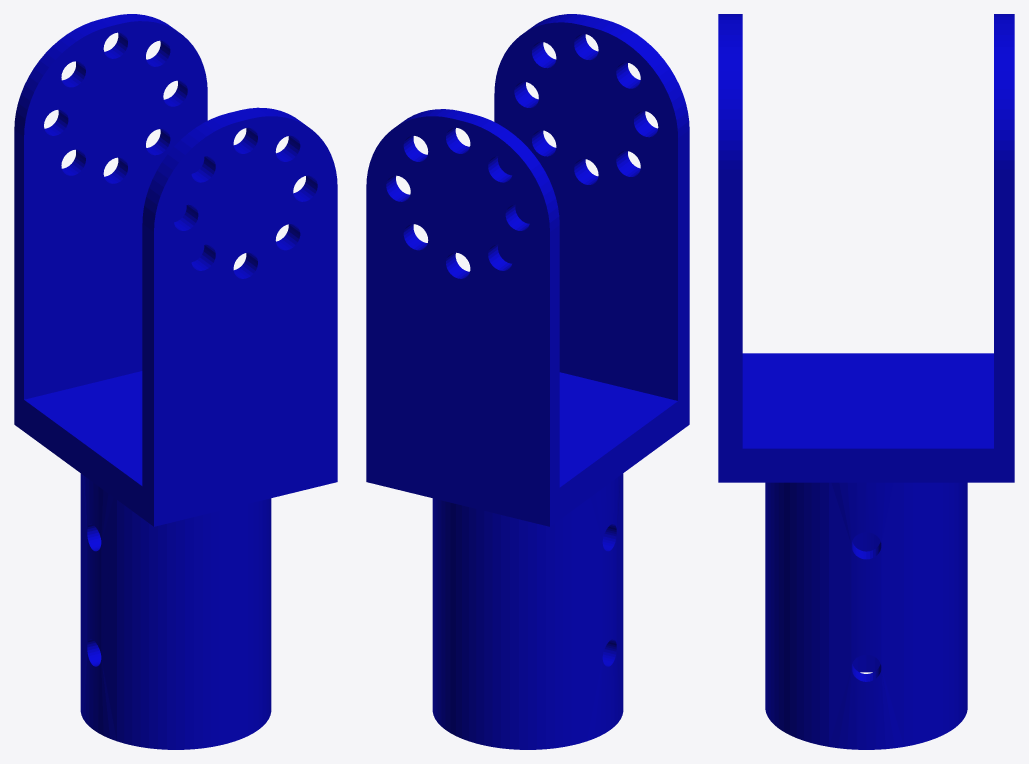
The model's file is headFixing.dae.
3 renders of one model, left to right at view 1: azimuth 30°, elevation 25°; view 2: azimuth 150°, elevation 25°; view 3: azimuth 270°, elevation 25°, orthographic. The views are drawn at different scales.
Parts seen in each view (by area): view 1: node0; view 2: node0; view 3: node0.
Part boxes in pixels (x1,y1,x2,y2): node0: [14, 14, 337, 749]; node0: [366, 14, 689, 749]; node0: [718, 14, 1014, 749].
Size of the model in its own units: 30 by 39.5 by 100.
